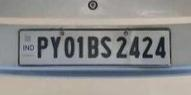0: (63, 34, 76, 62)
1: (76, 35, 84, 59)
2: (115, 34, 129, 59), (142, 34, 153, 60)
4: (154, 35, 168, 61), (129, 34, 141, 60)
B: (87, 35, 99, 59)
P: (36, 34, 49, 60)
S: (100, 35, 112, 60)
Y: (48, 35, 63, 61)
